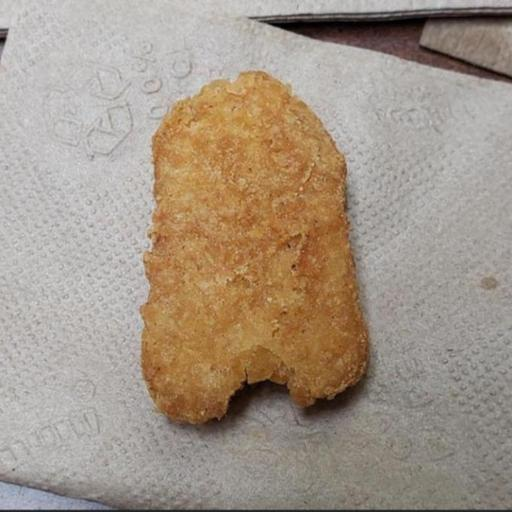Crewmate: (134, 66, 373, 424)
